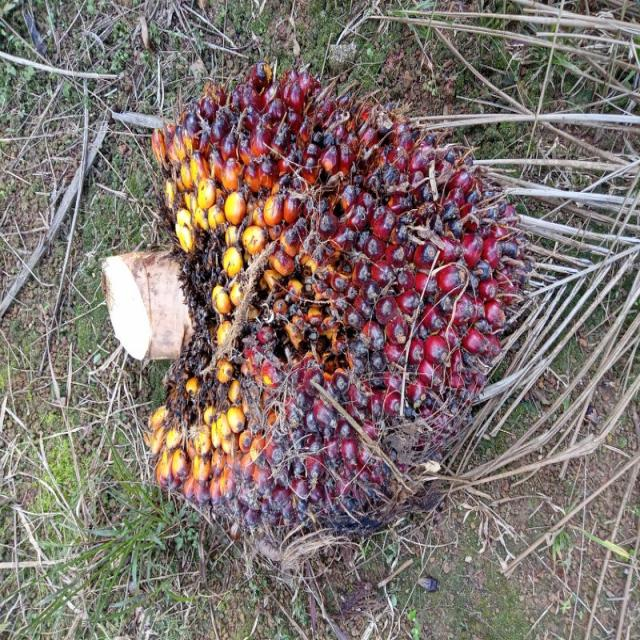fraksi 1: (117, 9, 539, 572)
